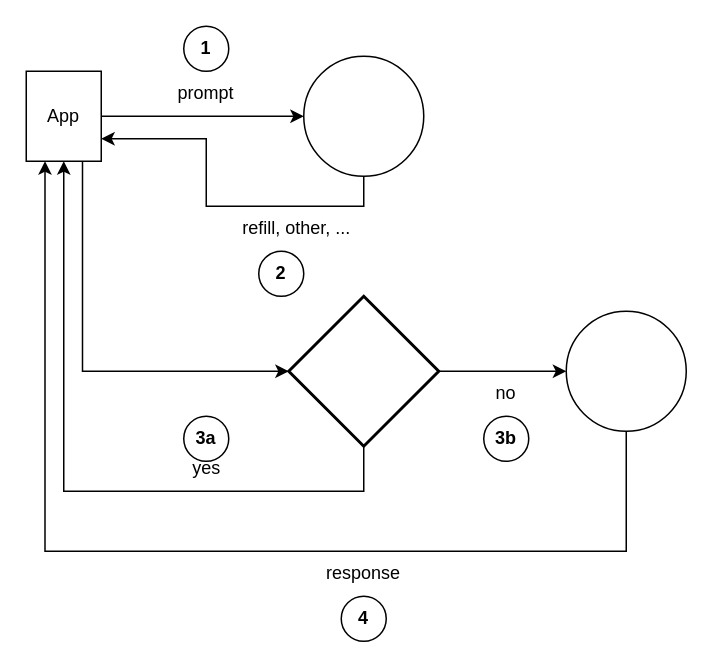
This 713x668 diagram has some shape labels left out. The shapes that lost their labels are listed below. From the top down, each one's box as (x1, y1, x2, y2) in pixels, then its label:
(302, 55, 424, 176): Classifier
(286, 294, 440, 447): FAQ?
(565, 310, 686, 431): Inference
